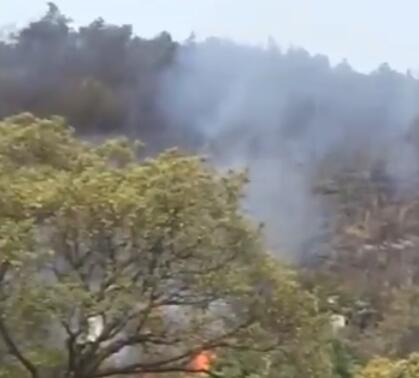fire: (192, 350, 219, 372)
smoke: (138, 0, 419, 279)
